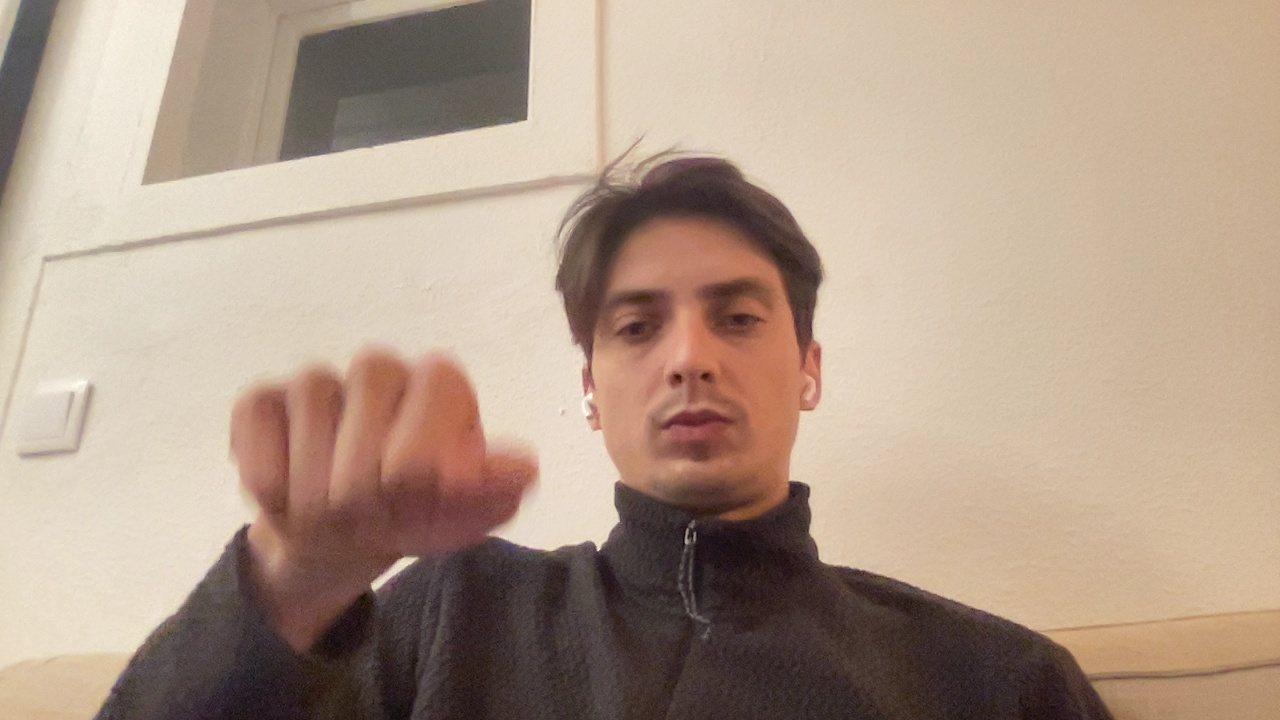Yes: (179, 324, 547, 569)
